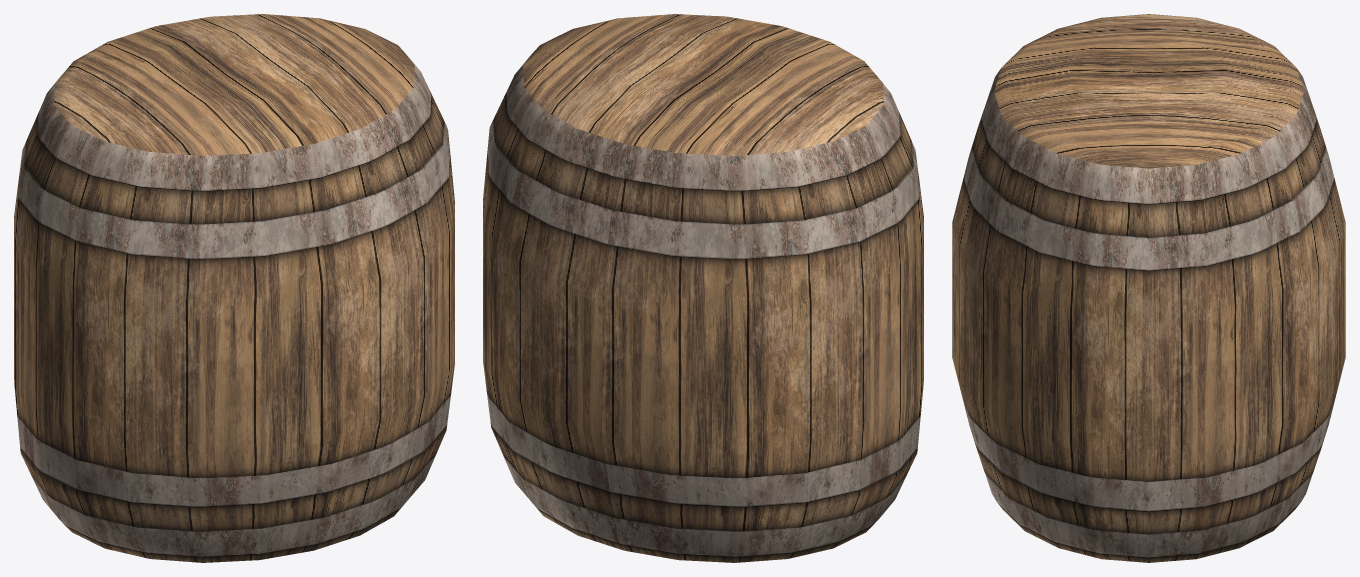
The model's file is barrel_wooden.fbx.
3 views of the same model, side by side, from view 1: azimuth 30°, elevation 25°; view 2: azimuth 150°, elevation 25°; view 3: azimuth 270°, elevation 25° (orthographic). The views are drawn at different scales.
Visible parts, largest first — view 1: pCylinder1; view 2: pCylinder1; view 3: pCylinder1.
Part boxes in pixels (x1,y1,x2,y2): pCylinder1: (14, 14, 454, 562); pCylinder1: (483, 14, 923, 562); pCylinder1: (952, 14, 1345, 562).
Size of the model in its own units: 2.39 by 2.48 by 2.12.
1 material, 1 textured.
